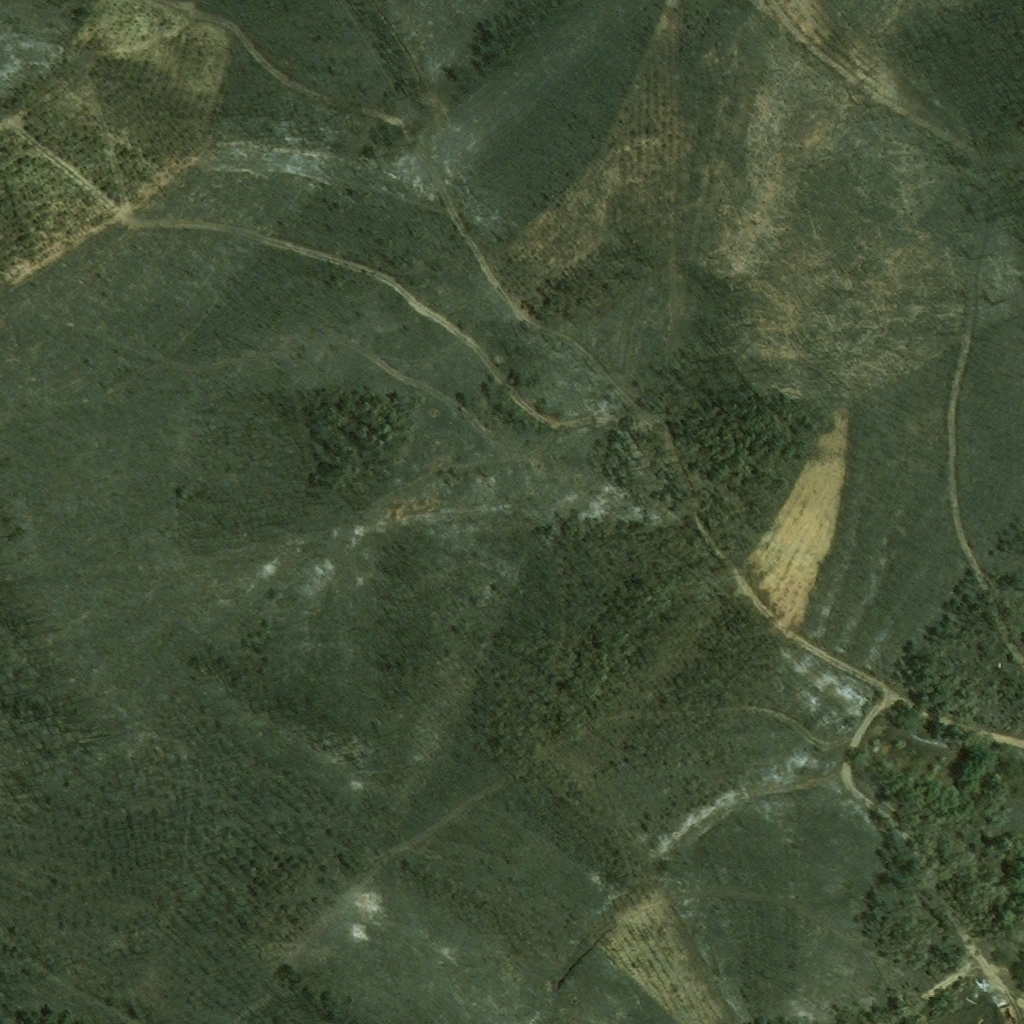3 destroyed: (994, 993, 1019, 1023)
